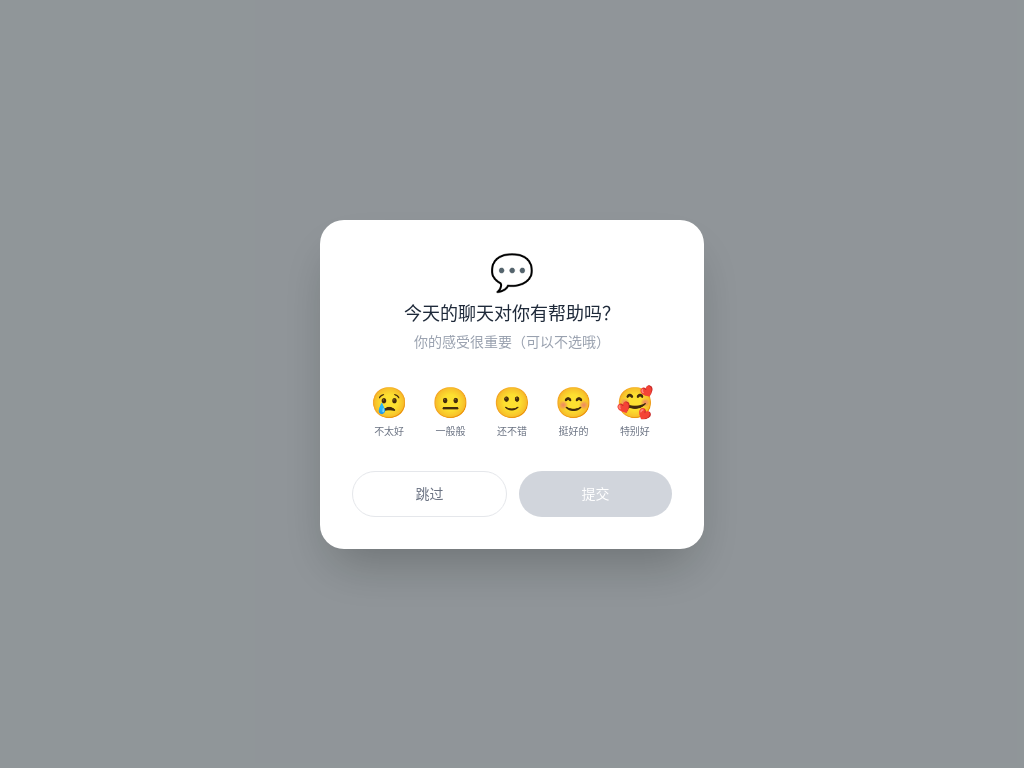
Test: SatisfactionDialog › 选择表情后显示留言输入框
This screenshot has width=1024, height=768.
Expected: the field with placeholder "想说的话（选填）" is not shown
Click the text "🙂". click: (512, 402)
box: [493, 384, 531, 420]
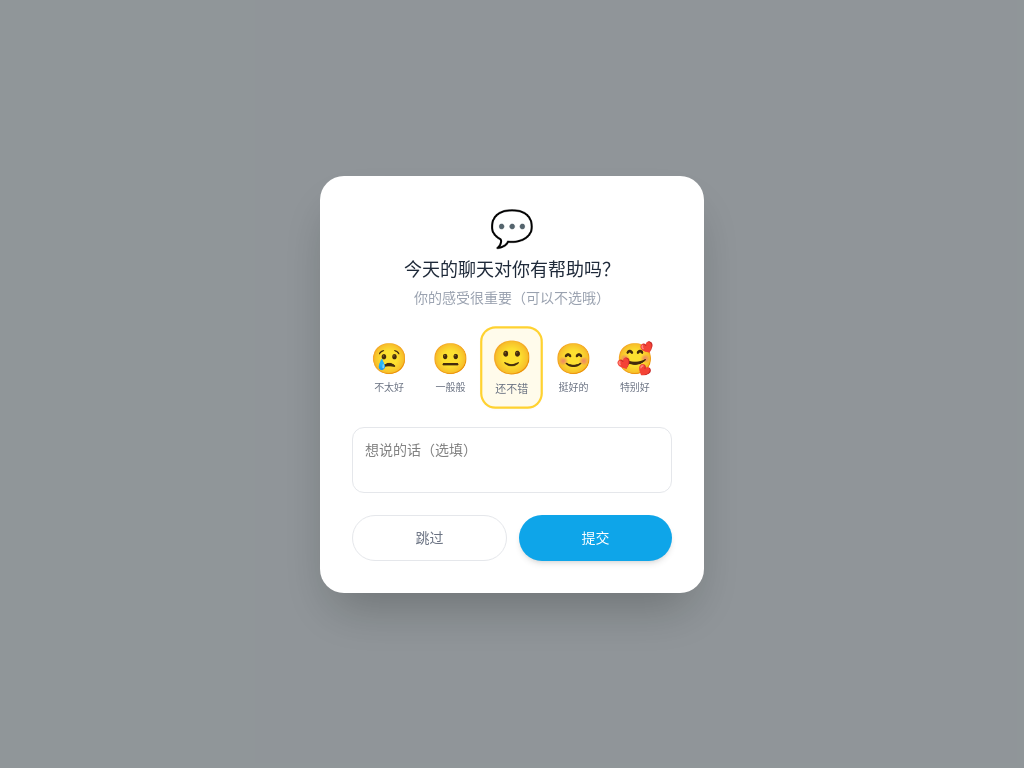
Expected: the text box with placeholder "想说的话（选填）" is shown, [352, 426, 672, 492]
